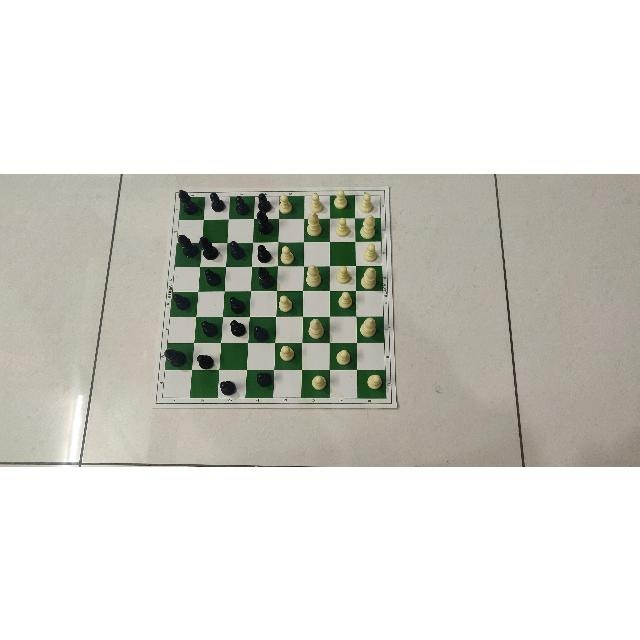black-bishop: (253, 209, 277, 237), (163, 344, 191, 367), (198, 232, 219, 261), (179, 186, 199, 215), (255, 264, 279, 288), (176, 232, 197, 257)
black-pawn: (201, 267, 225, 289), (228, 236, 247, 259), (172, 291, 192, 311), (255, 368, 275, 388), (200, 316, 218, 337), (218, 378, 239, 396), (209, 188, 227, 208), (251, 323, 271, 341), (256, 242, 274, 261), (229, 293, 245, 314), (196, 351, 215, 368), (229, 317, 247, 334), (257, 192, 276, 208), (232, 195, 248, 213)
white-bishop: (356, 315, 379, 341), (358, 264, 377, 290), (358, 213, 377, 239), (303, 260, 321, 287), (302, 211, 322, 235), (304, 314, 323, 337)
white-pawn: (332, 261, 352, 284), (331, 348, 351, 368), (363, 369, 382, 390), (309, 188, 325, 212), (335, 185, 349, 210), (277, 290, 292, 313), (278, 342, 295, 361), (336, 288, 353, 307), (357, 191, 373, 211), (280, 242, 295, 263), (336, 214, 349, 238), (280, 192, 294, 214), (310, 370, 325, 389), (363, 241, 377, 261)
